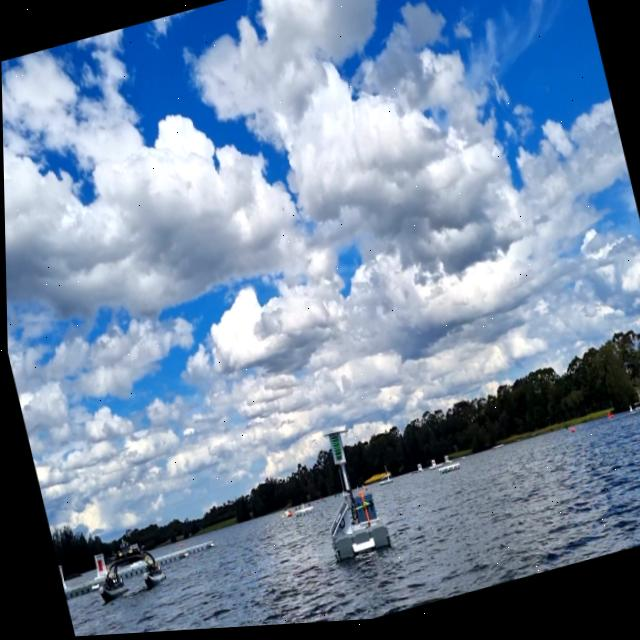led: (327, 436, 342, 466)
